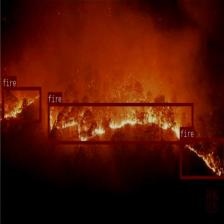fire: (47, 102, 193, 144), (179, 138, 224, 178), (2, 86, 41, 122)
